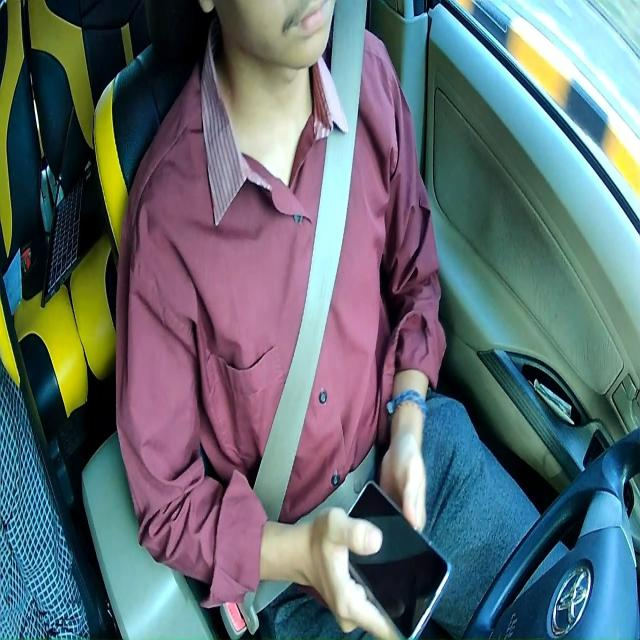phone: (344, 478, 452, 638)
